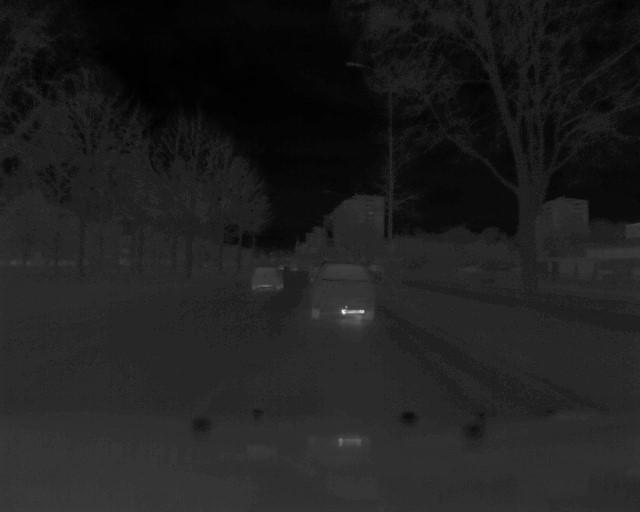car: (307, 257, 379, 325), (249, 266, 284, 295)
